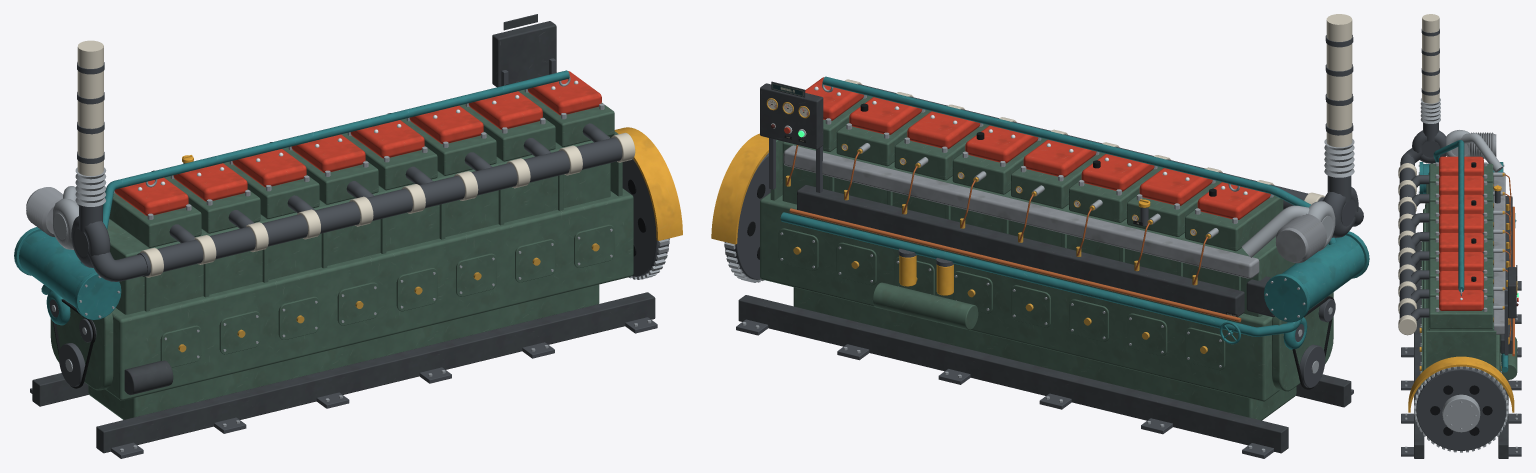
Rendered from DieselEngineS.glb.
The picture shows the model from 3 angles, left to right: view 1: azimuth 30°, elevation 25°; view 2: azimuth 150°, elevation 25°; view 3: azimuth 270°, elevation 25°; orthographic projection. The views are drawn at different scales.
Parts seen in each view (by area): view 1: DieselEngineS_Body, DieselEngineS_Flywheel; view 2: DieselEngineS_Body, DieselEngineS_Flywheel; view 3: DieselEngineS_Body, DieselEngineS_Flywheel.
Boxes of the visible parts, <box> form: DieselEngineS_Body: <box>14,14,682,458</box>; DieselEngineS_Flywheel: <box>622,159,669,279</box>; DieselEngineS_Body: <box>711,14,1369,458</box>; DieselEngineS_Flywheel: <box>724,153,770,282</box>; DieselEngineS_Body: <box>1398,14,1521,458</box>; DieselEngineS_Flywheel: <box>1414,366,1508,452</box>.
Size of the model in its own units: 6.4 by 4 by 1.7.
26 materials, 16 textured.
